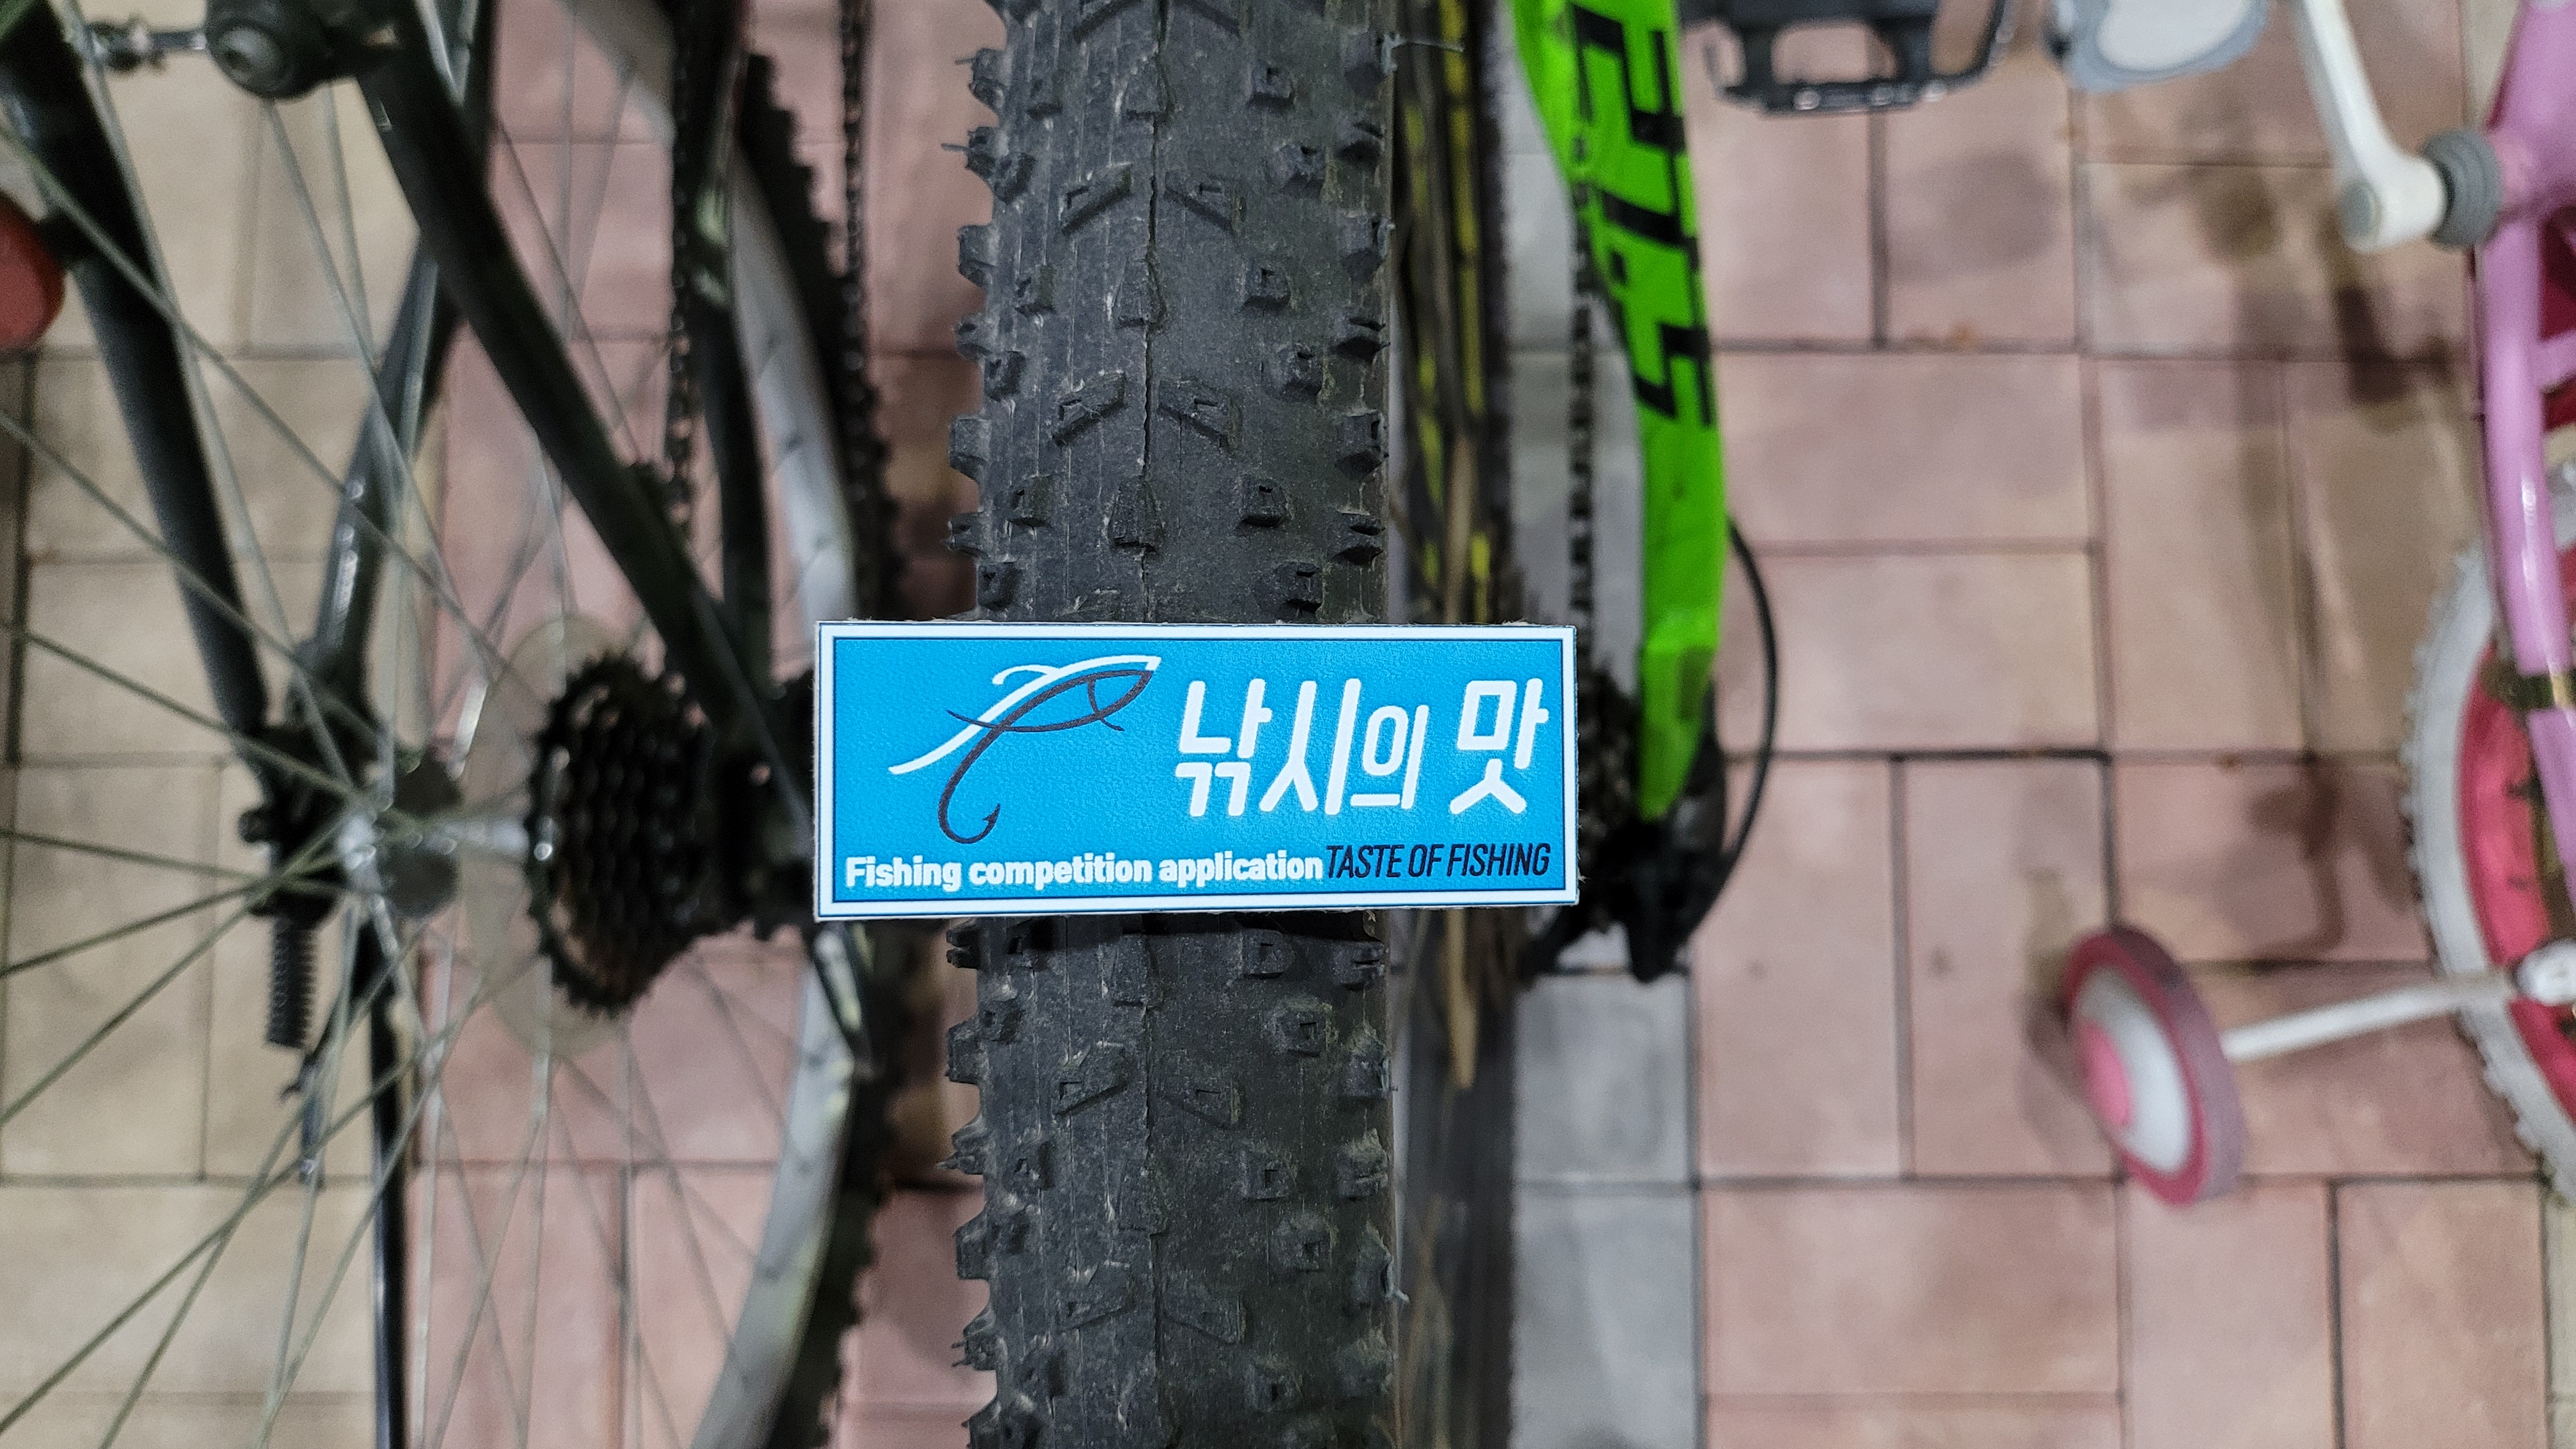tag: (816, 626, 1580, 908)
